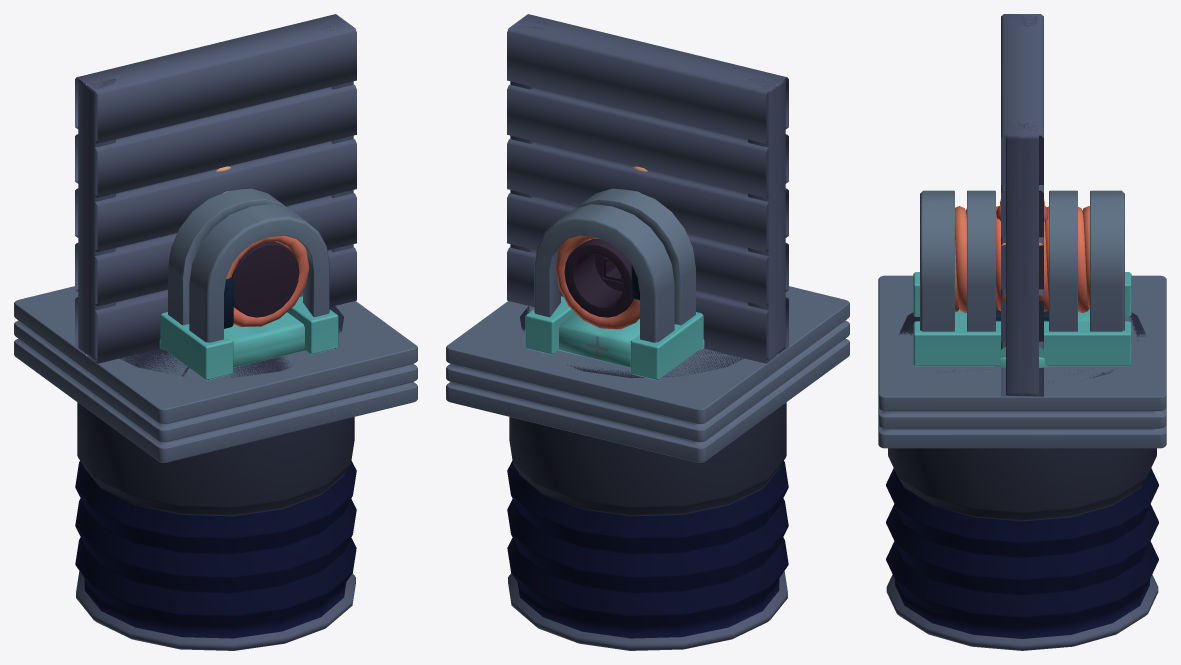
File: Components.fbx
The picture shows the model from 3 angles, left to right: view 1: azimuth 30°, elevation 25°; view 2: azimuth 150°, elevation 25°; view 3: azimuth 270°, elevation 25°; orthographic projection. The views are drawn at different scales.
Parts seen in each view (by area): view 1: Dropper, Door, Elevator, Engine, L; view 2: Door, Dropper, Elevator, Engine, L; view 3: Dropper, Engine, Elevator, R, Door.
Part boxes in pixels (x1,y1,x2,y2): Dropper: (75, 306, 356, 650); Door: (75, 14, 356, 363); Elevator: (14, 286, 417, 462); Engine: (160, 188, 338, 380); L: (78, 74, 116, 360); Door: (507, 14, 788, 363); Dropper: (507, 306, 788, 650); Elevator: (446, 286, 849, 462); Engine: (525, 188, 703, 380); L: (748, 74, 785, 360); Dropper: (886, 312, 1158, 650); Engine: (913, 190, 1131, 366); Elevator: (878, 275, 1166, 448); R: (1006, 122, 1038, 395); Door: (1001, 14, 1043, 396).
Bounding box in the file's own units: 400 × 797 × 400.
